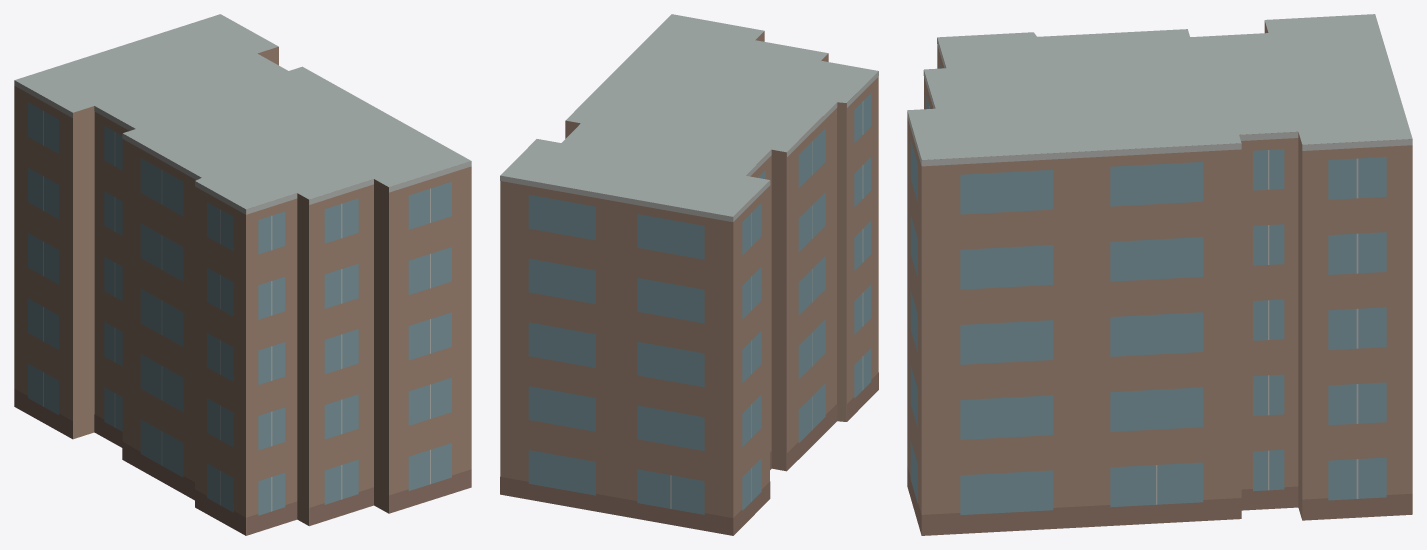
File: survey-upis-32917980.glb
3 views of the same model, side by side, from view 1: azimuth 30°, elevation 25°; view 2: azimuth 150°, elevation 25°; view 3: azimuth 270°, elevation 25° (orthographic). The views are drawn at different scales.
Visible parts, largest first — view 1: survey-upis-32917980.tmp; view 2: survey-upis-32917980.tmp; view 3: survey-upis-32917980.tmp.
Part boxes in pixels (left/top/right/bottom): survey-upis-32917980.tmp: left=14, top=14, right=471, bottom=535; survey-upis-32917980.tmp: left=500, top=14, right=878, bottom=535; survey-upis-32917980.tmp: left=907, top=14, right=1412, bottom=535.
Size of the model in its own units: 12.18 by 14.6 by 17.8.
